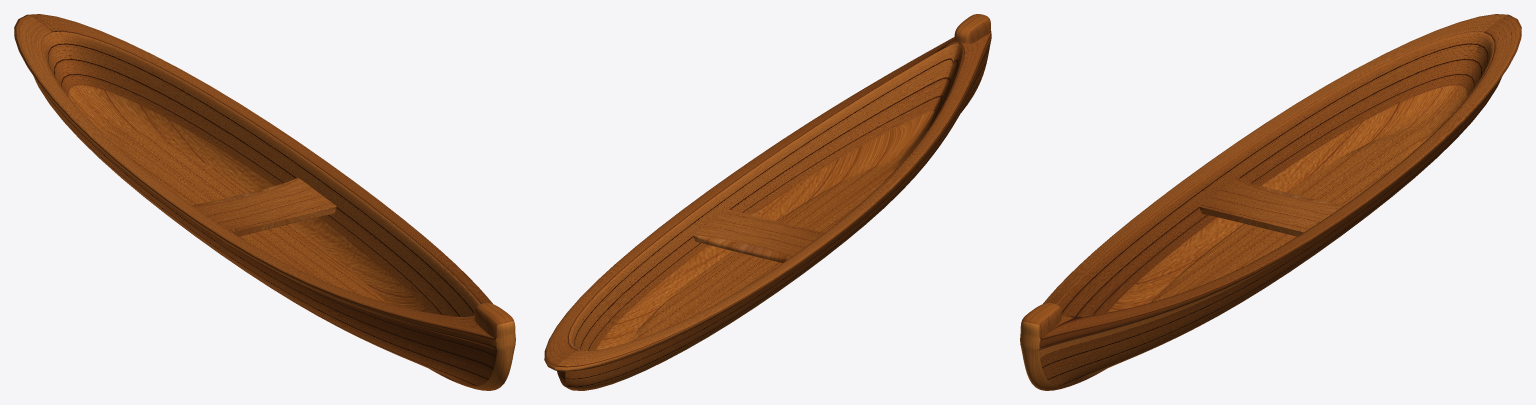
Rendered from boat.fbx.
3 renders of one model, left to right at view 1: azimuth 30°, elevation 25°; view 2: azimuth 150°, elevation 25°; view 3: azimuth 330°, elevation 25°, orthographic. The views are drawn at different scales.
Visible parts, largest first — view 1: Boat; view 2: Boat; view 3: Boat.
Part boxes in pixels (bbox=[...]): Boat: bbox=[14, 14, 515, 390]; Boat: bbox=[544, 14, 991, 390]; Boat: bbox=[1020, 14, 1521, 390].
Size of the model in its own units: 368 by 240 by 1931.
Materials: 1 (1 with a texture image).
